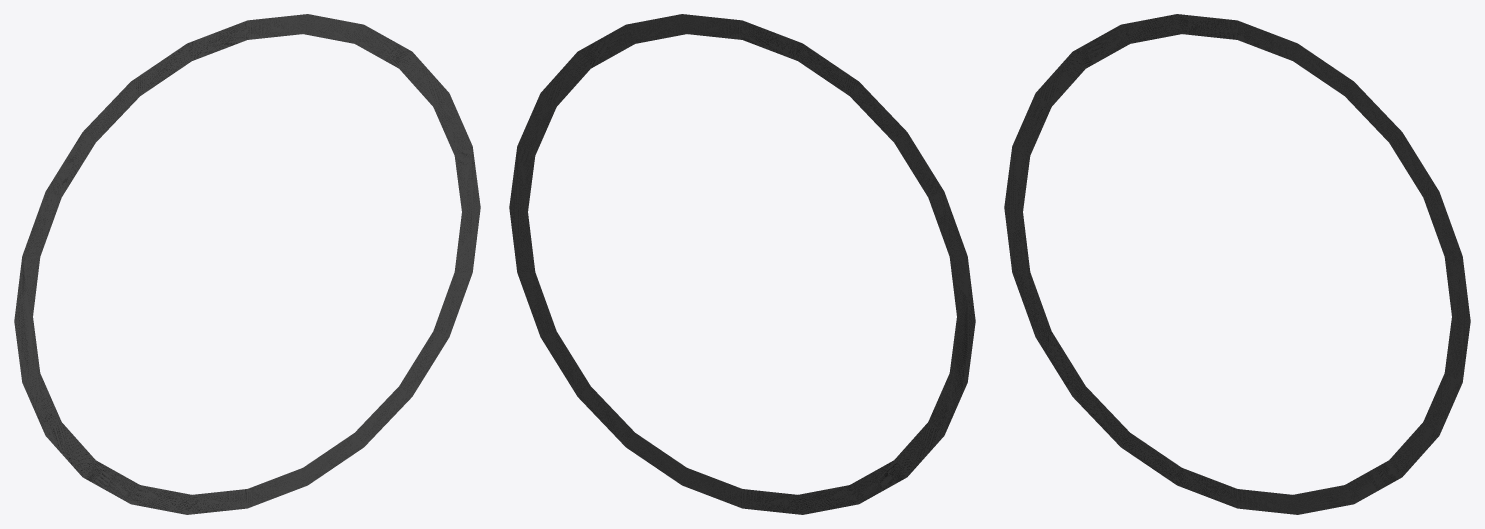
File: original-91.obj
3 renders of one model, left to right at view 1: azimuth 30°, elevation 25°; view 2: azimuth 150°, elevation 25°; view 3: azimuth 330°, elevation 25°, orthographic.
Parts seen in each view (by area): view 1: #ID383; view 2: #ID383; view 3: #ID383.
Part boxes in pixels (<box>): #ID383: <box>14,14,480,514</box>; #ID383: <box>509,14,975,514</box>; #ID383: <box>1004,14,1470,514</box>.
Size of the model in its own units: 0.021 by 0.021 by 0.
2 materials, 1 textured.
